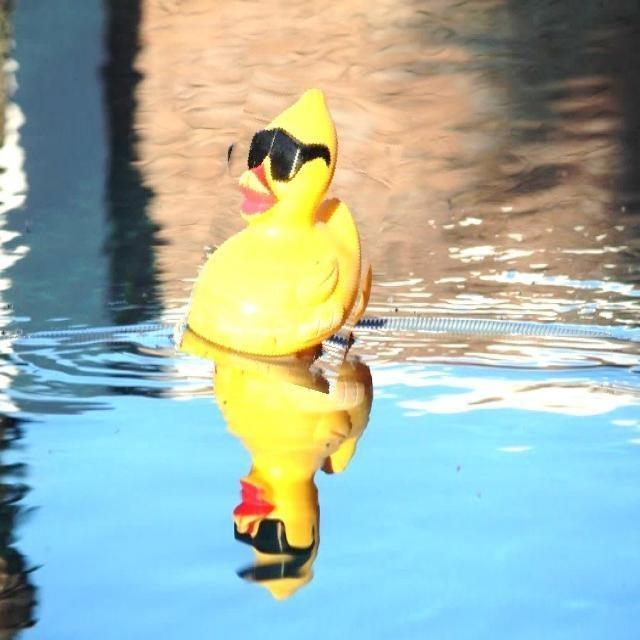rubber-duck: (186, 88, 370, 354)
